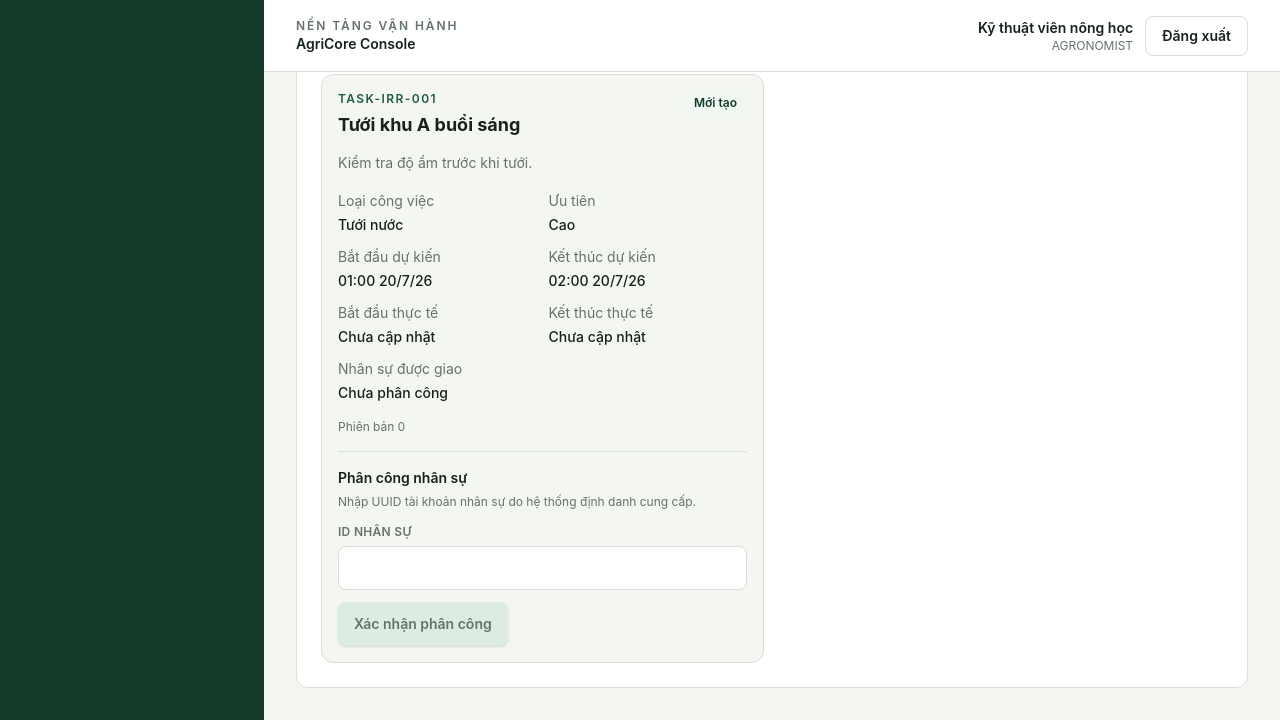
Test case: work-task assignment workspace › assigns the selected task and refreshes server state
The image size is (1280, 720).
(page scrolled)
Expected: the heading "Tưới khu A buổi sáng" is shown, [338,111,520,139]
Type "10000000-0000-0000-0000-000000000019" into the field labelled "ID nhân sự" at (542, 568), box [338,546,747,590]
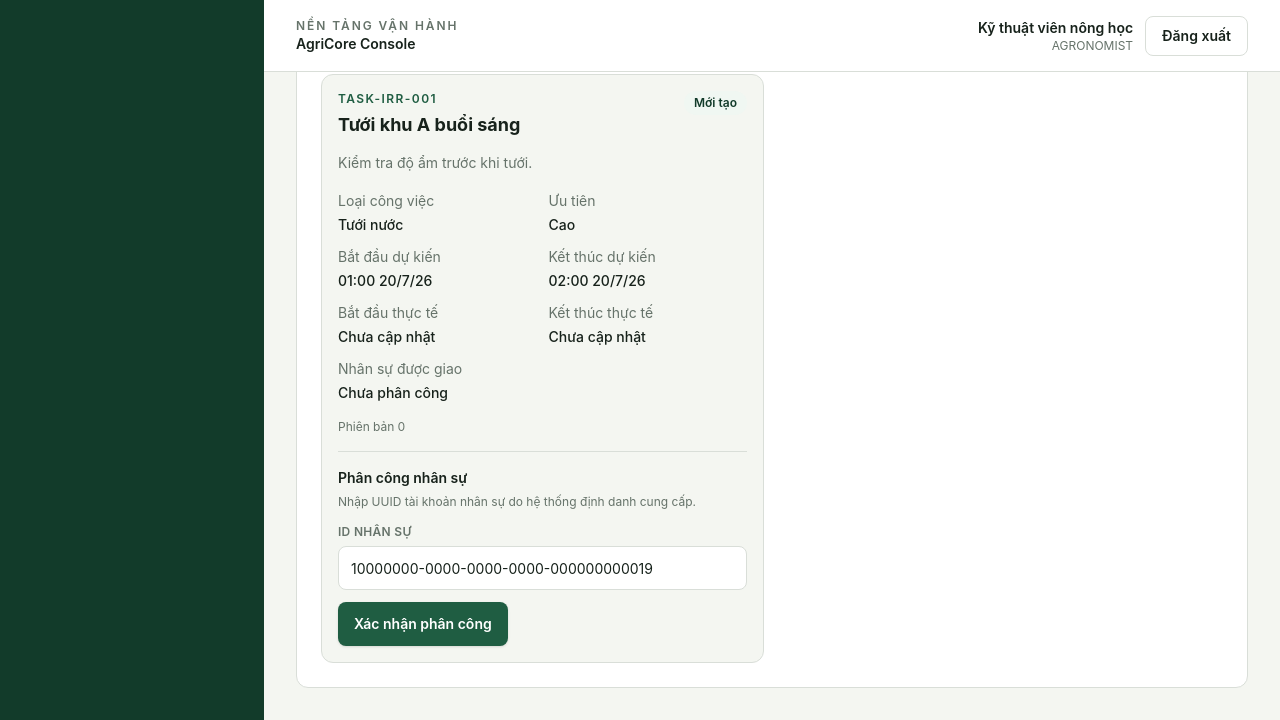
Click the button "Xác nhận phân công" at (423, 624), box [338,602,508,646]
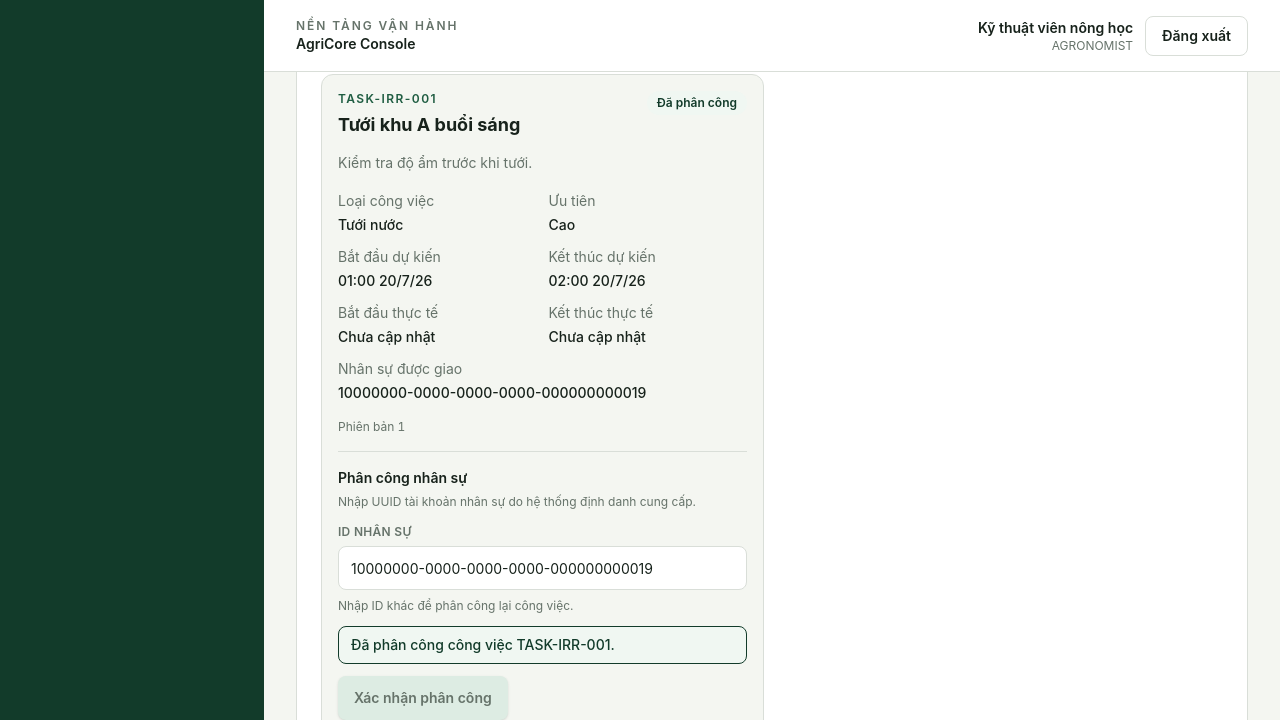
Now the text "10000000-0000-0000-0000-000000000019" is shown, box [338,384,646,401]
Now the message named "Phân công công việc thành công" shows "TASK-IRR-001", box [351,636,615,653]
